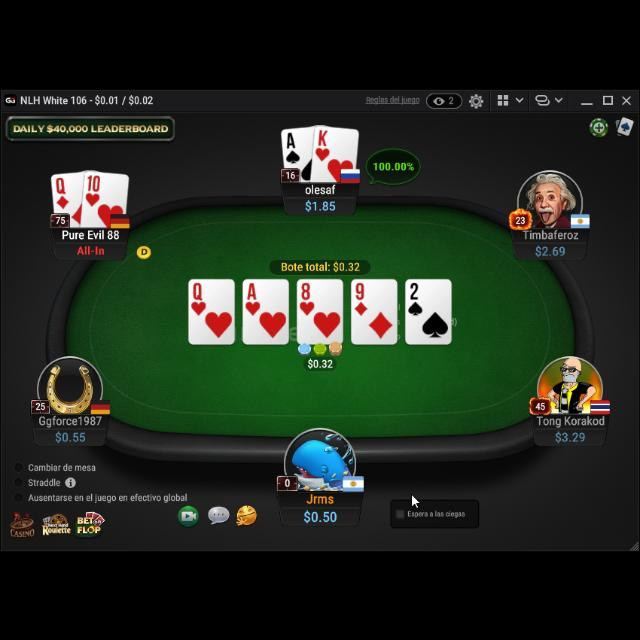2s: (406, 279, 424, 315), (408, 279, 424, 315)
8h: (298, 279, 316, 315)
9d: (353, 280, 369, 316)
Ah: (244, 279, 262, 315)
As: (284, 128, 302, 164)
Kh: (314, 126, 331, 160)
Qd: (55, 176, 71, 208)
Qh: (190, 280, 208, 314)
Td: (85, 172, 102, 206)
Th: (85, 172, 102, 206)
all_in_symbol: (76, 242, 106, 254)
bet_text: (306, 356, 334, 368)
dealer: (134, 242, 154, 258)
pot_text: (280, 258, 360, 272)
stack_text: (302, 504, 338, 522), (54, 426, 88, 442), (534, 240, 566, 256), (304, 197, 338, 211), (554, 427, 586, 441)
